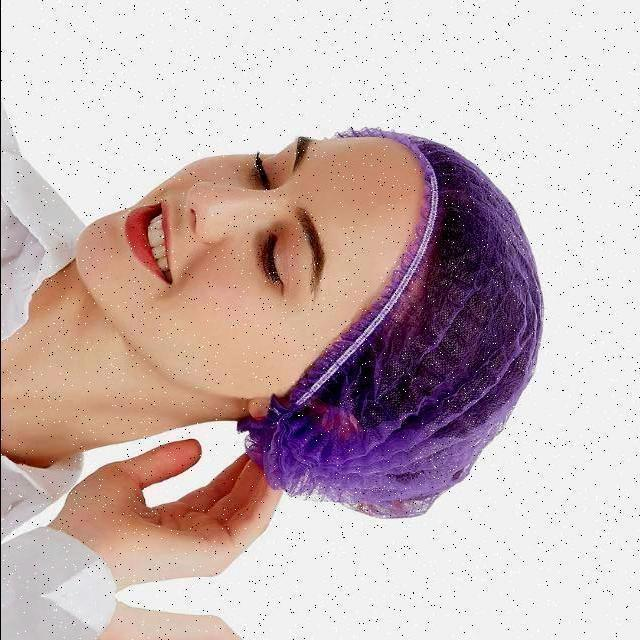gloves: (316, 119, 542, 526)
